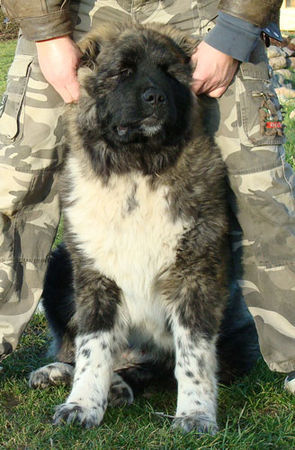cau_ovcharka: (27, 25, 261, 434)
person: (0, 0, 295, 404)
